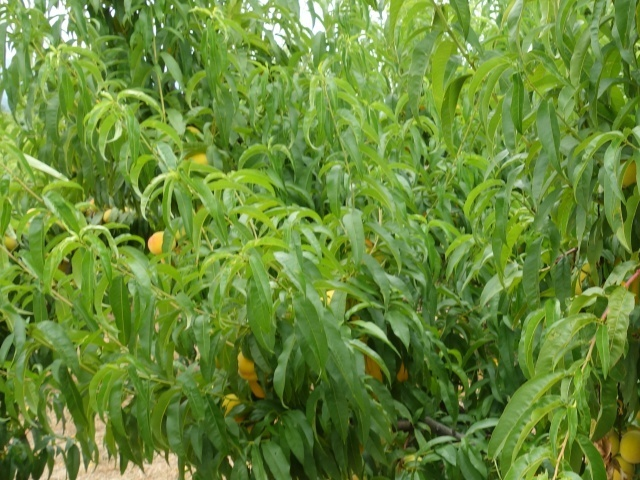peach: (227, 348, 268, 388), (142, 227, 178, 264), (216, 391, 249, 425), (615, 427, 640, 465), (611, 448, 636, 478)
